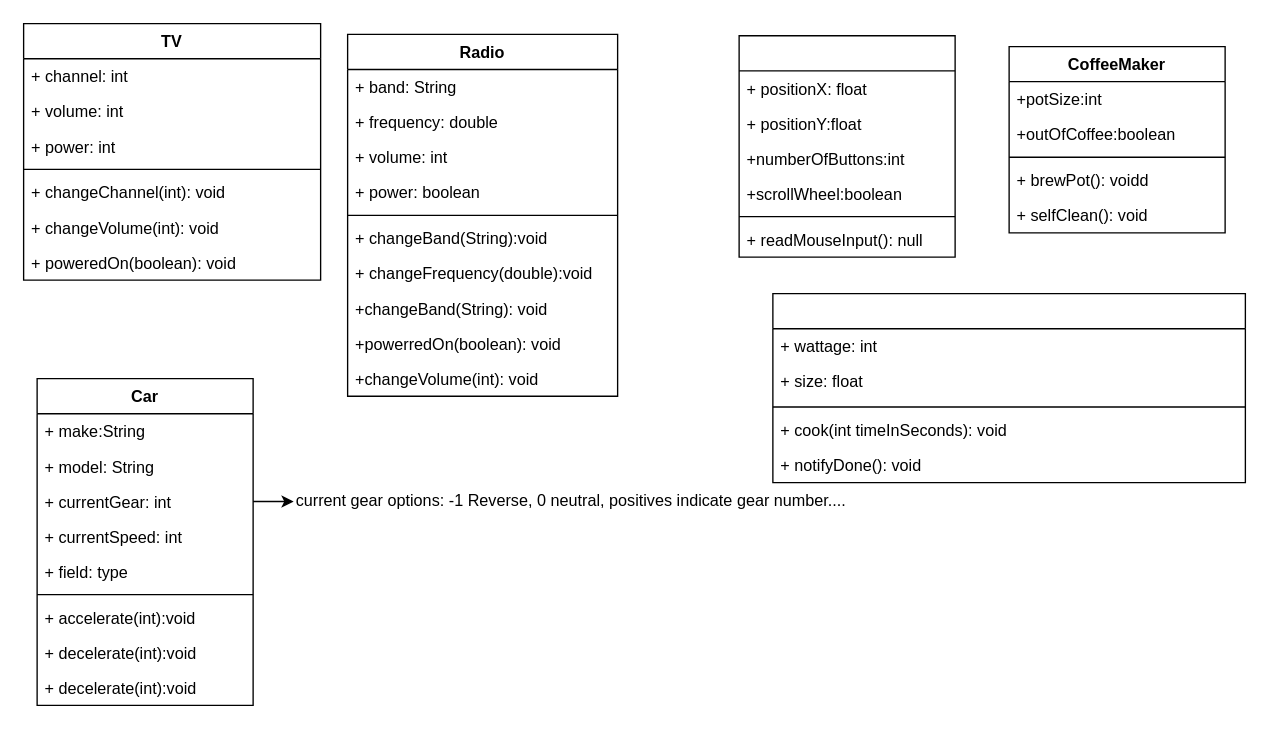
The diagram is 1269 pixels wide and 733 high, and some of its shapes have lost their labels. Here are the shapes that lost their labels. From the top down, the box of each, then its label:
(738, 34, 955, 257): ComputerMouse
(772, 292, 1245, 483): Microwave
